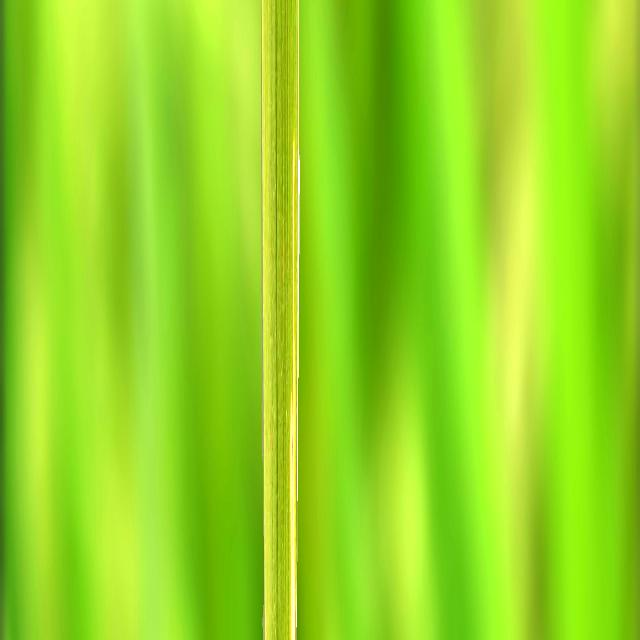BLS: (289, 137, 297, 640)
